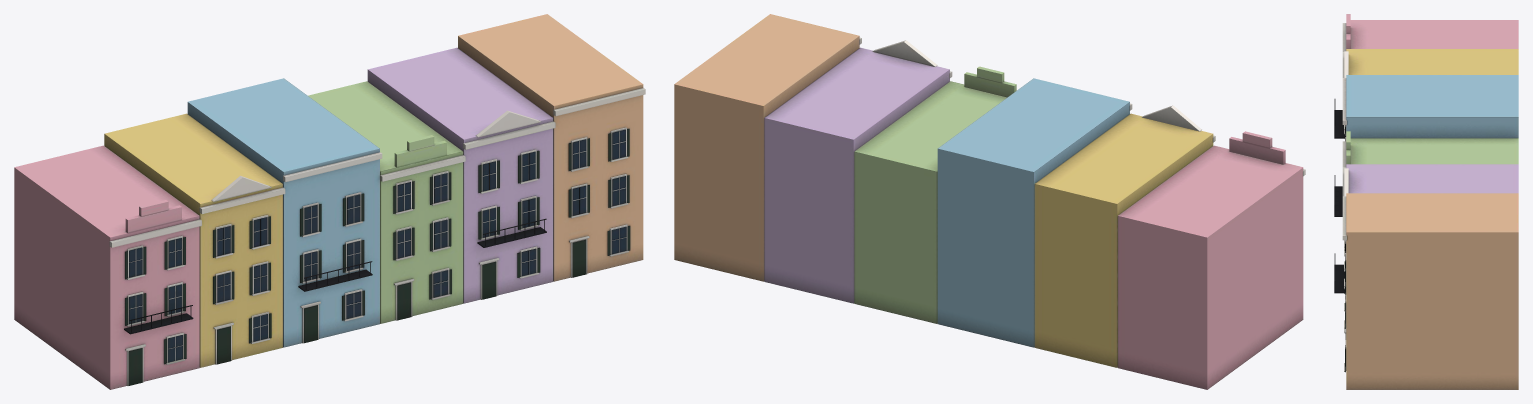
Rendered from rainbow_row.glb.
3 renders of one model, left to right at view 1: azimuth 30°, elevation 25°; view 2: azimuth 150°, elevation 25°; view 3: azimuth 270°, elevation 25°, orthographic. The views are drawn at different scales.
Visible parts, largest first — view 1: rainbow_row; view 2: rainbow_row; view 3: rainbow_row.
Boxes of the visible parts, x1,y1,x2,y2 form: rainbow_row: (14, 14, 645, 389); rainbow_row: (674, 14, 1305, 389); rainbow_row: (1334, 14, 1518, 389).
Bounding box in the file's own units: 38.5 × 12.5 × 12.85.
1 material, 1 textured.
